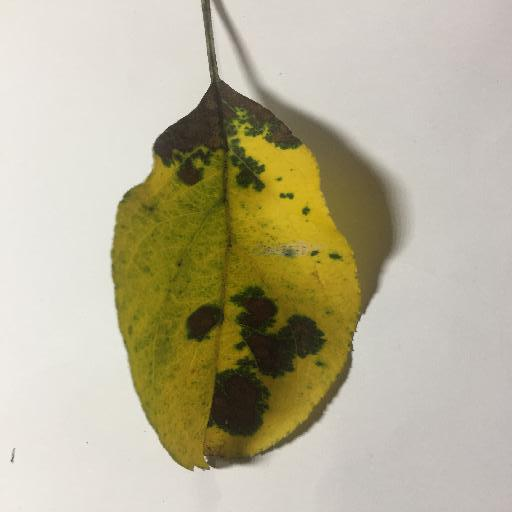Brown_Spot: (150, 278, 323, 435), (145, 69, 306, 188)
